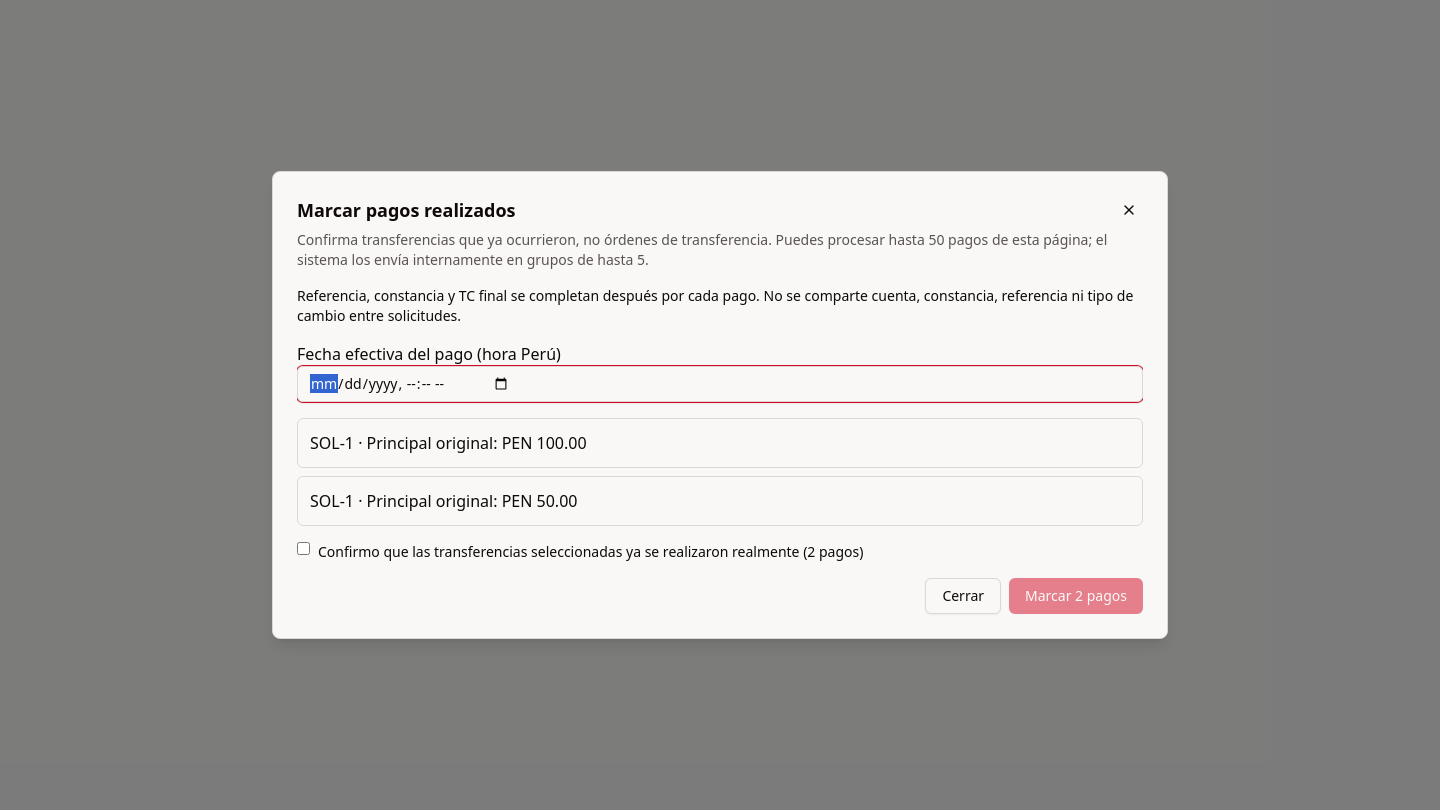
bulk payment modals › muestra principal separado y confirma pagos sin cuenta compartida
Expected: the number of list items "SOL-1 · Principal original: PEN 100.00" is 2, [297,418,1143,468]; [297,476,1143,526]
Expected: the button "Marcar 2 pagos" is disabled, [1009,578,1143,614]
Type "2026-09-10T10:30" into the field labelled "Fecha efectiva del pago (hora Perú)". click: (720,384)
box: [297,366,1143,402]
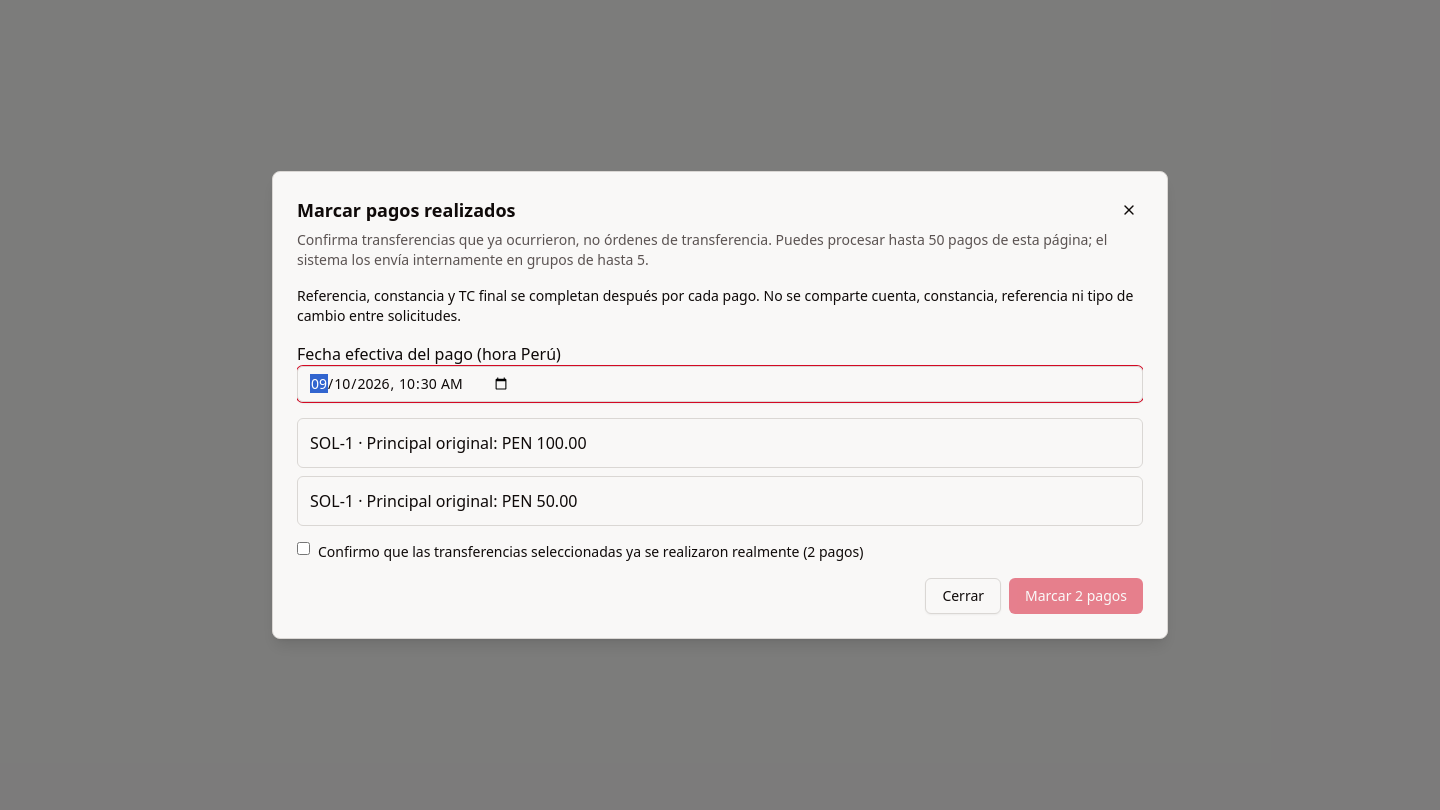
Click the checkbox labelled "Confirmo que las transferencias". click: (304,548)
box: [297,542,310,555]
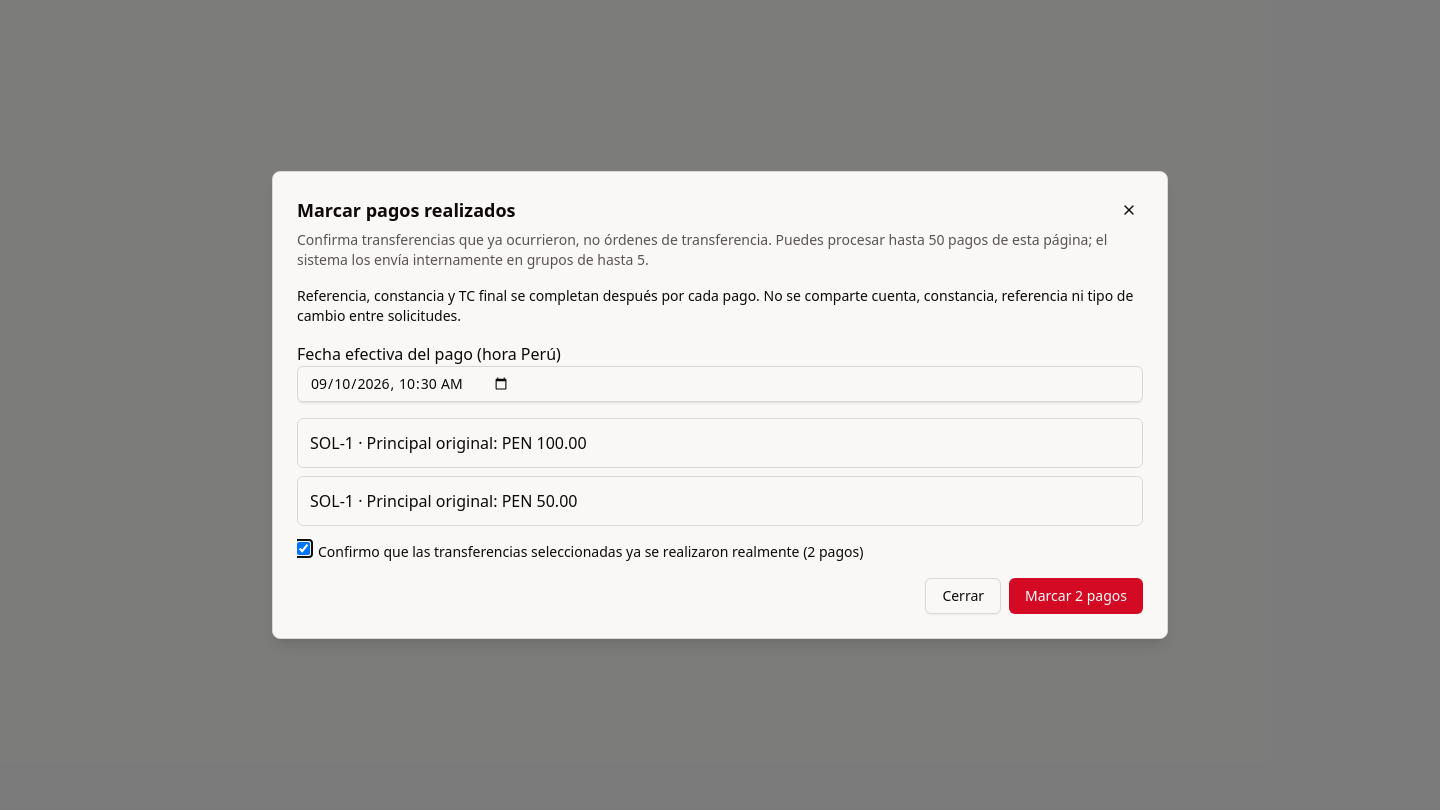
Click the button "Marcar 2 pagos". click: (1076,596)
box: [1009,578,1143,614]
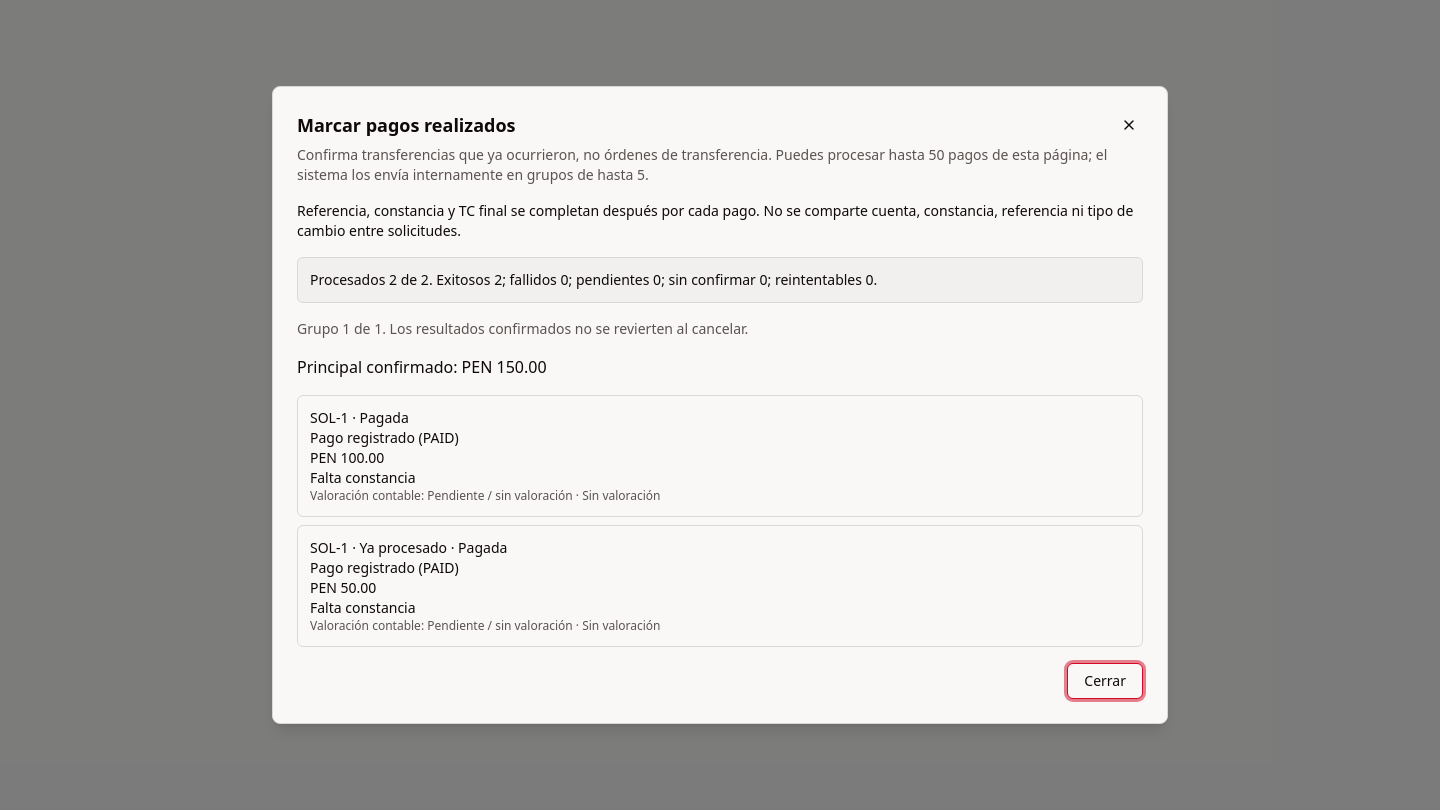
Now the text "SOL-1 · Ya procesado · Pagada" is shown, box [310,538,507,557]
